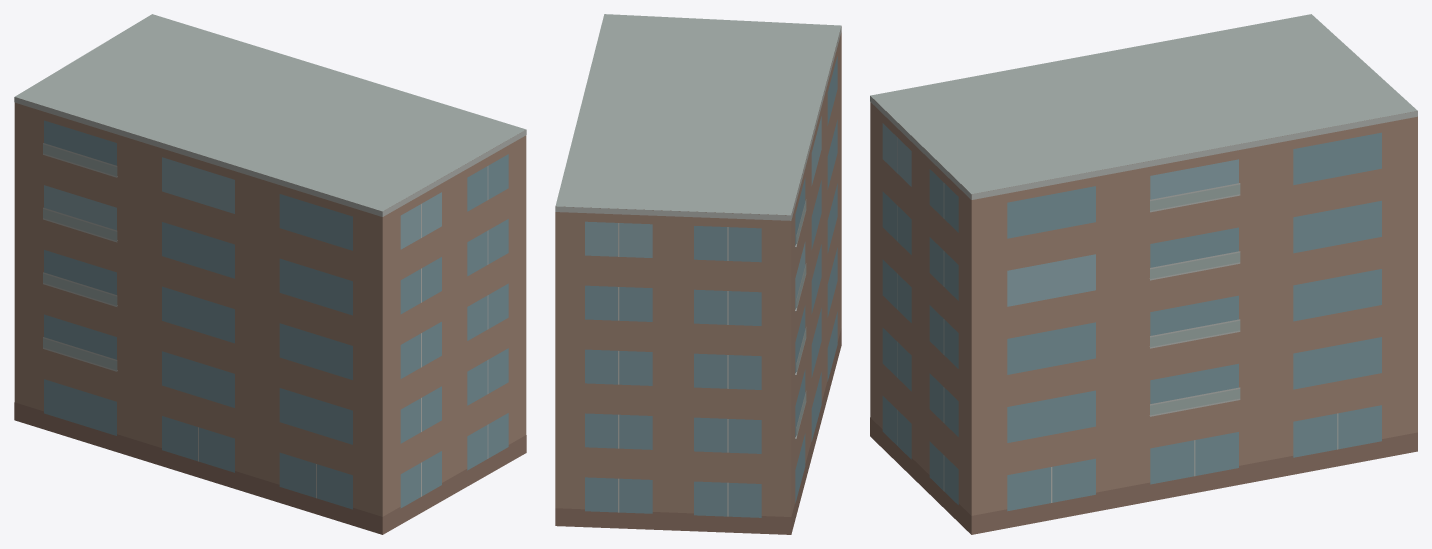
The model's file is survey-upis-32602294.glb.
3 renders of one model, left to right at view 1: azimuth 30°, elevation 25°; view 2: azimuth 150°, elevation 25°; view 3: azimuth 270°, elevation 25°, orthographic. The views are drawn at different scales.
Visible parts, largest first — view 1: survey-upis-32602294.tmp; view 2: survey-upis-32602294.tmp; view 3: survey-upis-32602294.tmp.
Boxes of the visible parts, box(x1,y1,x2,y2) form: survey-upis-32602294.tmp: box(14, 14, 526, 534); survey-upis-32602294.tmp: box(555, 14, 841, 534); survey-upis-32602294.tmp: box(870, 14, 1417, 534).
Size of the model in its own units: 15.89 by 14 by 20.41.
